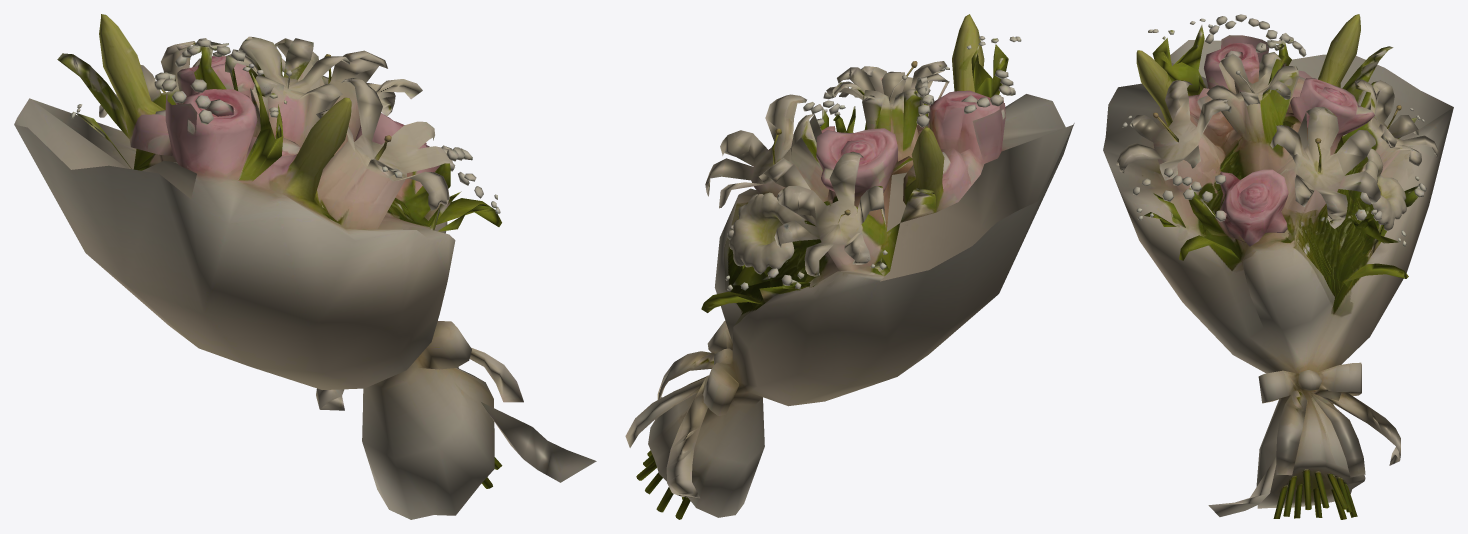
Rendered from Bright Flower Bouqet.fbx.
3 views of the same model, side by side, from view 1: azimuth 30°, elevation 25°; view 2: azimuth 150°, elevation 25°; view 3: azimuth 270°, elevation 25° (orthographic). The views are drawn at different scales.
Visible parts, largest first — view 1: tripo_node_38b18cf4-3bb8-4202-9f1e-31ac860a0783; view 2: tripo_node_38b18cf4-3bb8-4202-9f1e-31ac860a0783; view 3: tripo_node_38b18cf4-3bb8-4202-9f1e-31ac860a0783.
Boxes of the visible parts, box(x1,y1,x2,y2) form: tripo_node_38b18cf4-3bb8-4202-9f1e-31ac860a0783: box(14, 14, 596, 519); tripo_node_38b18cf4-3bb8-4202-9f1e-31ac860a0783: box(625, 14, 1074, 519); tripo_node_38b18cf4-3bb8-4202-9f1e-31ac860a0783: box(1103, 14, 1453, 519).
Size of the model in its own units: 91.99 by 99.8 by 77.54.
Materials: 1 (1 with a texture image).
